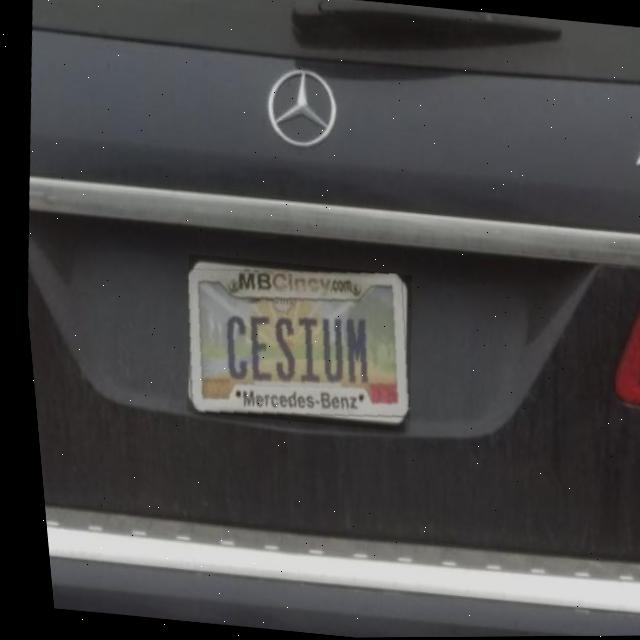LicensePlate: (184, 270, 402, 419)
